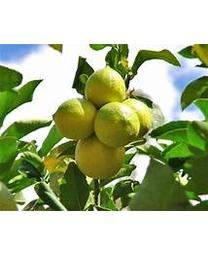lemon: (75, 132, 127, 180), (95, 101, 139, 148), (51, 100, 100, 140), (85, 66, 125, 107)
